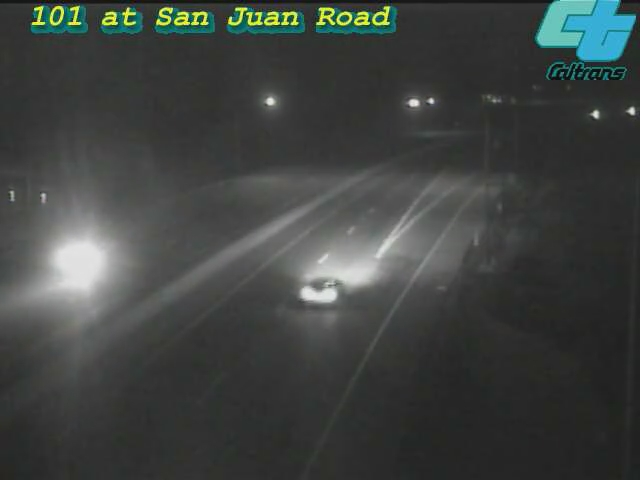vehicle: (37, 220, 117, 300), (280, 254, 360, 334), (568, 90, 618, 140), (604, 87, 640, 137)
